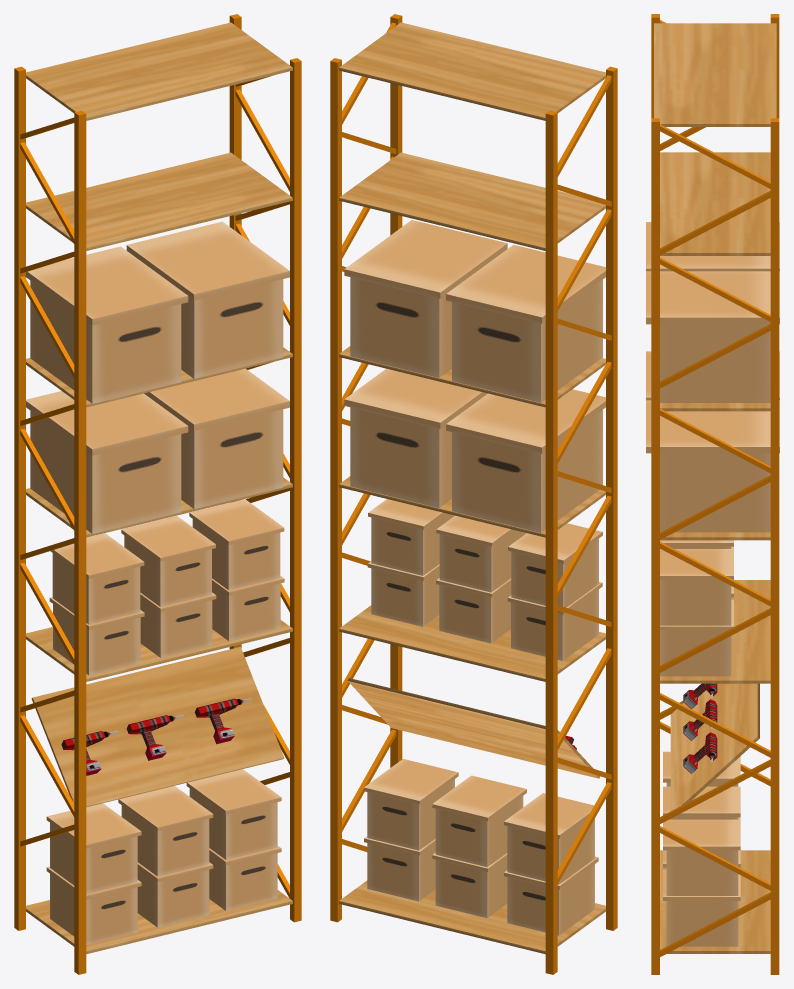
Rendered from Drill_Red_Rack.fbx.
3 views of the same model, side by side, from view 1: azimuth 30°, elevation 25°; view 2: azimuth 150°, elevation 25°; view 3: azimuth 270°, elevation 25° (orthographic).
Visible parts, largest first — view 1: Drill_Red_Rack; view 2: Drill_Red_Rack; view 3: Drill_Red_Rack.
Part boxes in pixels (x1=…): Drill_Red_Rack: x1=14, y1=14, x2=301, y2=974; Drill_Red_Rack: x1=330, y1=14, x2=617, y2=974; Drill_Red_Rack: x1=646, y1=14, x2=779, y2=974.
Size of the model in its own units: 2 by 7.37 by 1.05.
